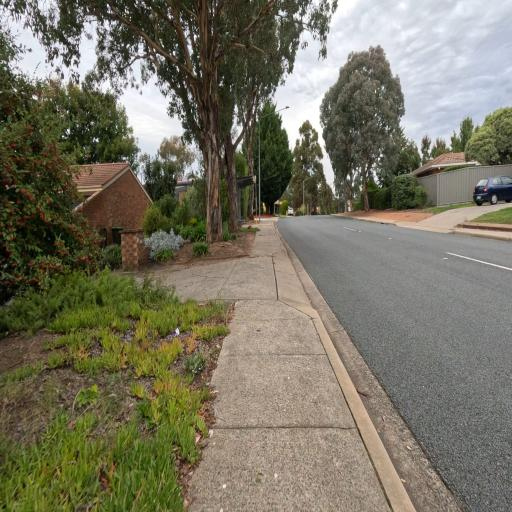kerb_cut: (270, 253, 320, 318)
